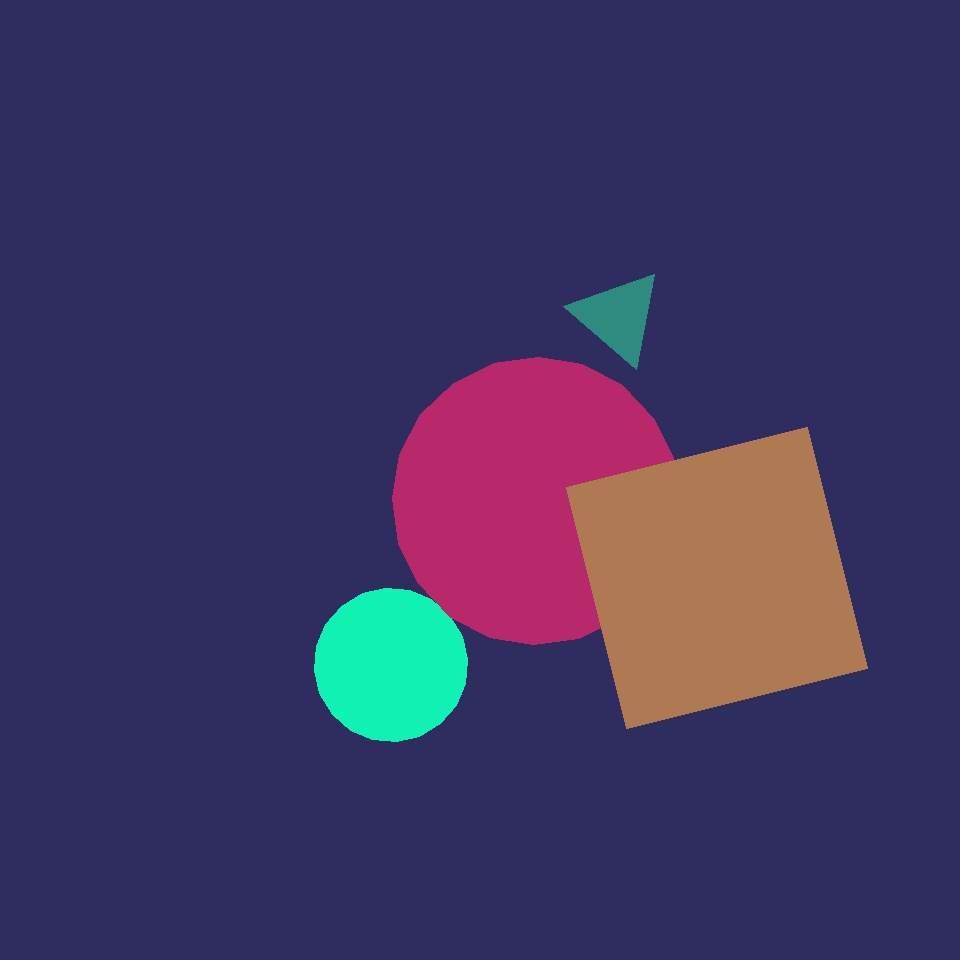circle: (573, 270, 664, 364), (202, 748, 298, 834), (592, 659, 675, 735)
square: (566, 428, 867, 728)
triangle: (392, 358, 680, 644), (160, 141, 400, 381), (398, 638, 631, 871), (314, 588, 467, 742)
